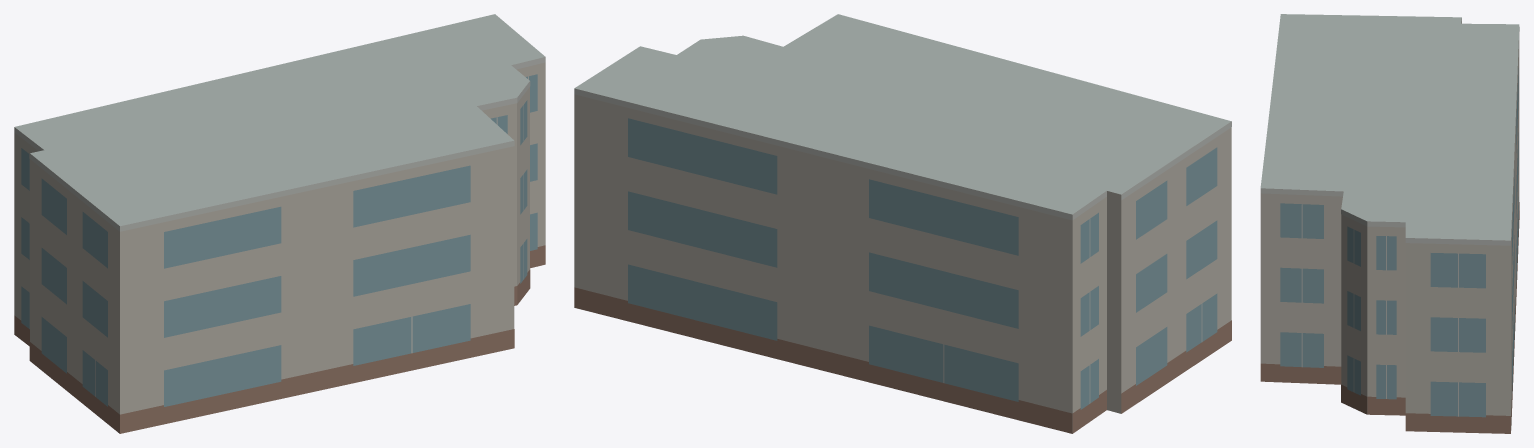
Rendered from survey-upis-32678309.glb.
3 renders of one model, left to right at view 1: azimuth 30°, elevation 25°; view 2: azimuth 150°, elevation 25°; view 3: azimuth 270°, elevation 25°, orthographic. The views are drawn at different scales.
Parts seen in each view (by area): view 1: survey-upis-32678309.tmp; view 2: survey-upis-32678309.tmp; view 3: survey-upis-32678309.tmp.
Part boxes in pixels (x1,y1,x2,y2): survey-upis-32678309.tmp: (14, 14, 545, 433); survey-upis-32678309.tmp: (574, 14, 1231, 433); survey-upis-32678309.tmp: (1260, 14, 1519, 433).
Bounding box in the file's own units: 23.01 × 9.15 × 11.12.
